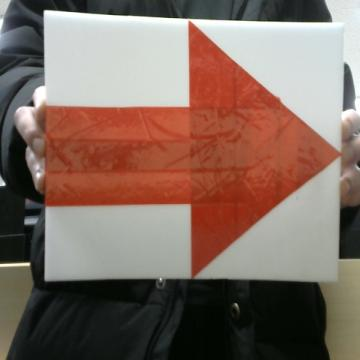red_right: (47, 22, 338, 275)
